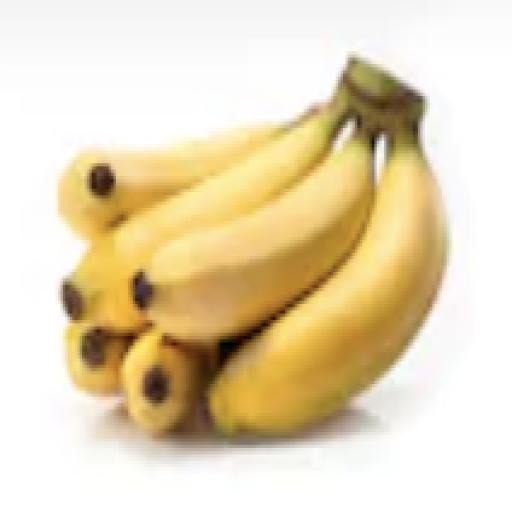banana: (208, 128, 446, 435), (63, 87, 350, 329), (141, 128, 374, 345), (58, 125, 284, 239), (121, 327, 210, 435), (66, 324, 130, 393)
